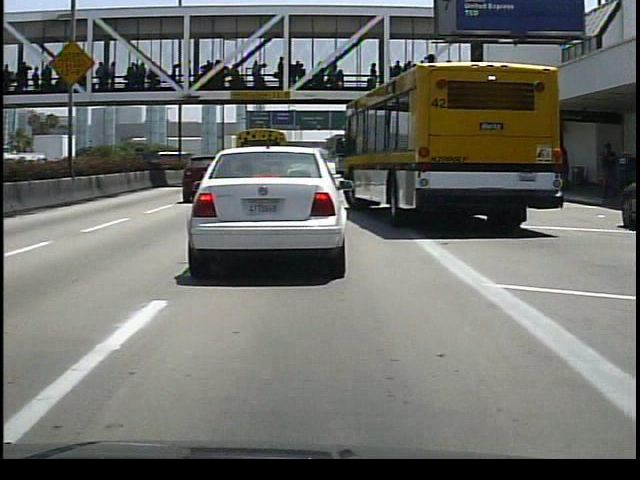person: (598, 141, 624, 206)
